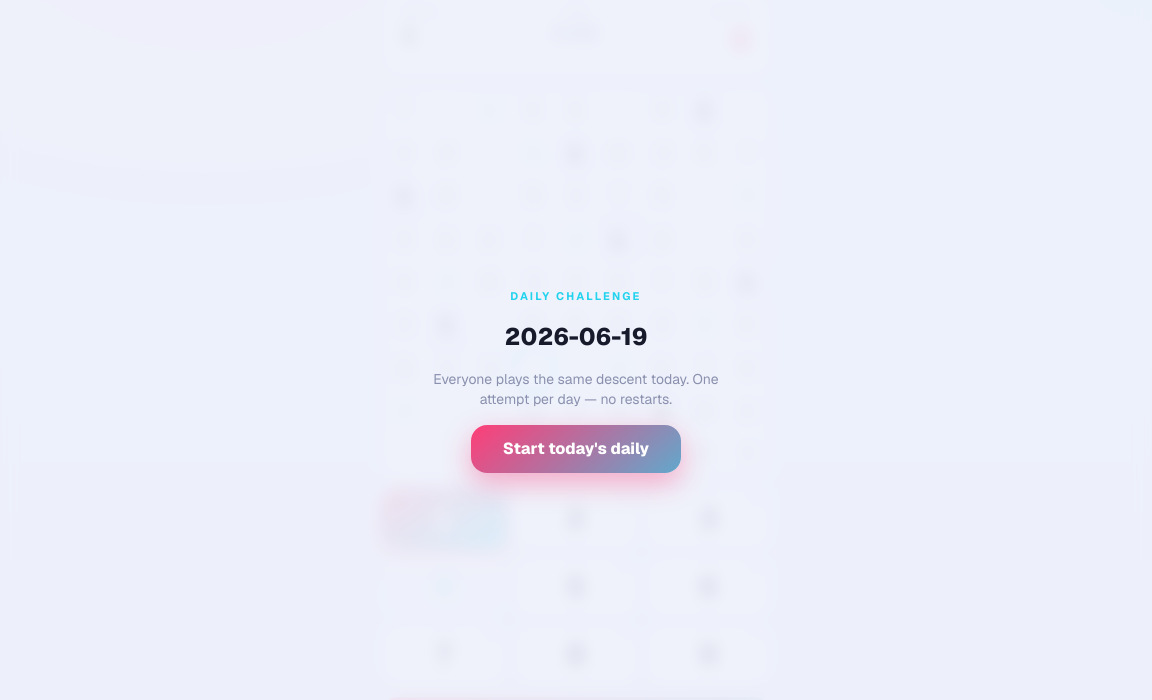
Scenario: /daily › opens on the gate, then starts the run on Start — run is playable, not routed to result
Click the button "Start today's daily".
click(576, 449)  # box 471,425 -> 681,473
(page scrolled)
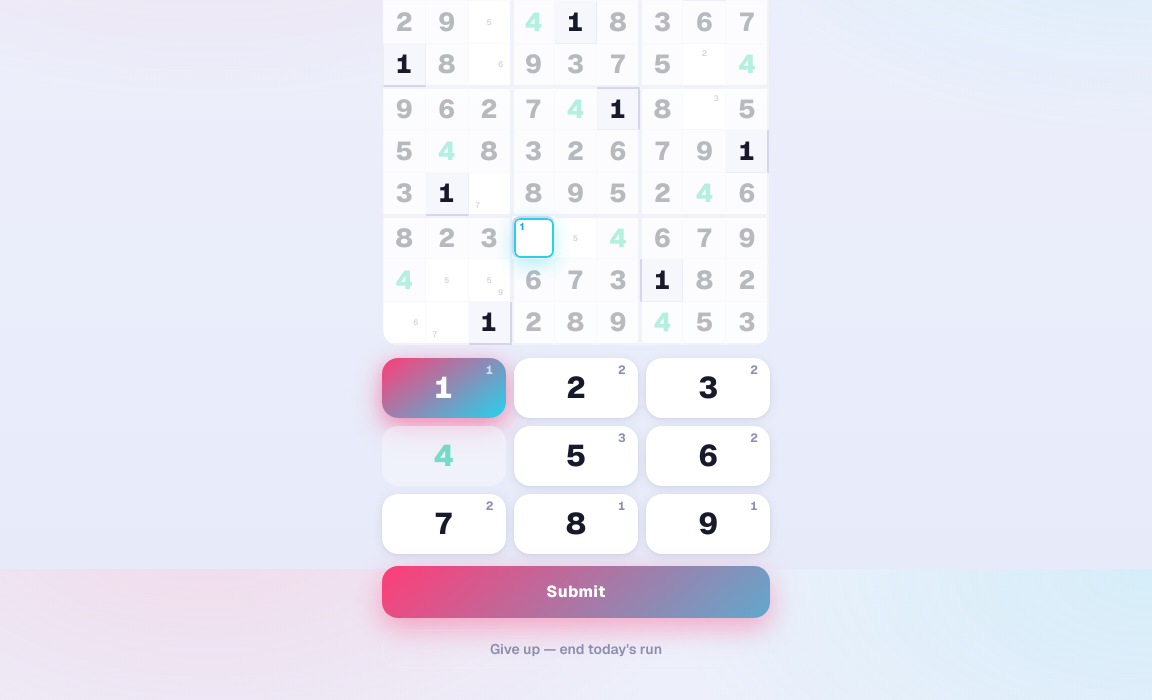
Now the button "Give up — end today's run" is shown, box 382,630 -> 770,668
